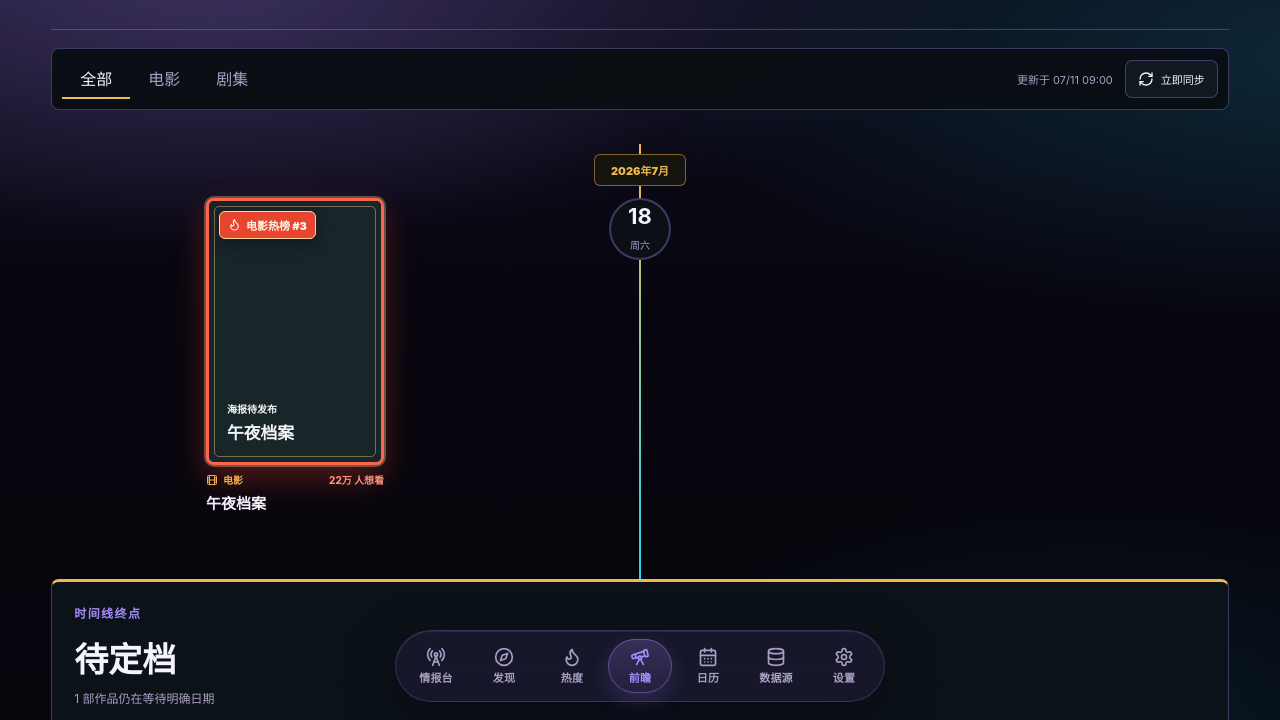
Test case: frontend pages › renders the Douban preview timeline and opens its detail drawer
(page scrolled)
Expected: the text "2026年7月" is shown, [594, 154, 686, 186]
Expected: the text "电影热榜 #3" is shown, [219, 210, 316, 238]
Click the button with aria-label "午夜档案，电影热榜 #3" at (295, 360), box [206, 198, 384, 523]
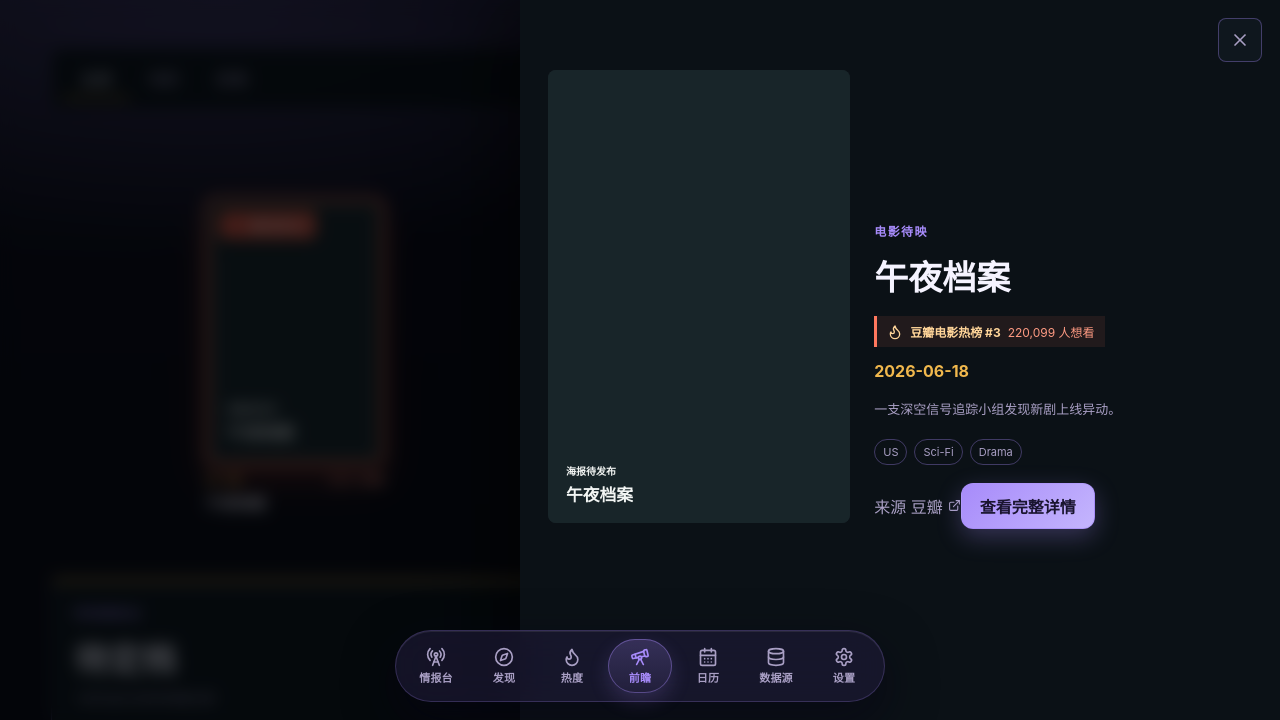
Now the dialog is shown, box [520, 0, 1279, 719]
Now the text "豆瓣电影热榜 #3" is shown, box [910, 323, 1001, 340]
Now the text "220,099 人想看" is shown, box [1008, 323, 1094, 340]
